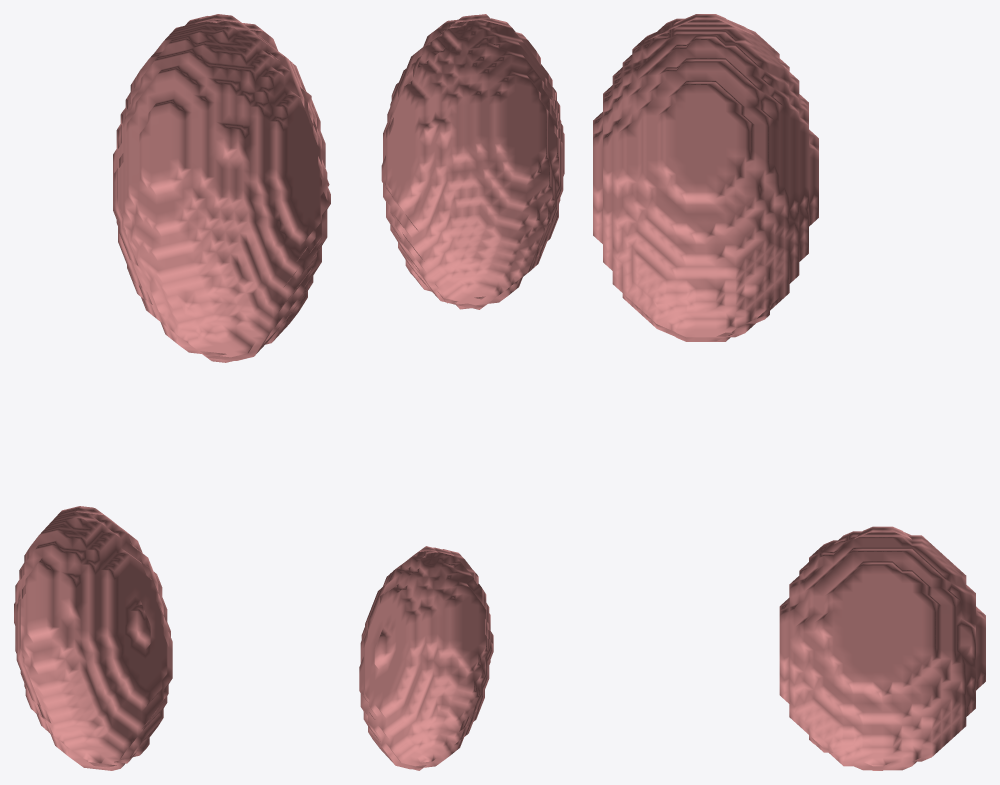
Rendered from 239548_occ.glb.
3 views of the same model, side by side, from view 1: azimuth 30°, elevation 25°; view 2: azimuth 150°, elevation 25°; view 3: azimuth 270°, elevation 25° (orthographic). The views are drawn at different scales.
Visible parts, largest first — view 1: world; view 2: world; view 3: world.
Part boxes in pixels (x1,y1,x2,y2): world: (14, 14, 330, 770); world: (359, 14, 564, 770); world: (593, 14, 985, 770).
Size of the model in its own units: 1.9 by 8.6 by 4.
